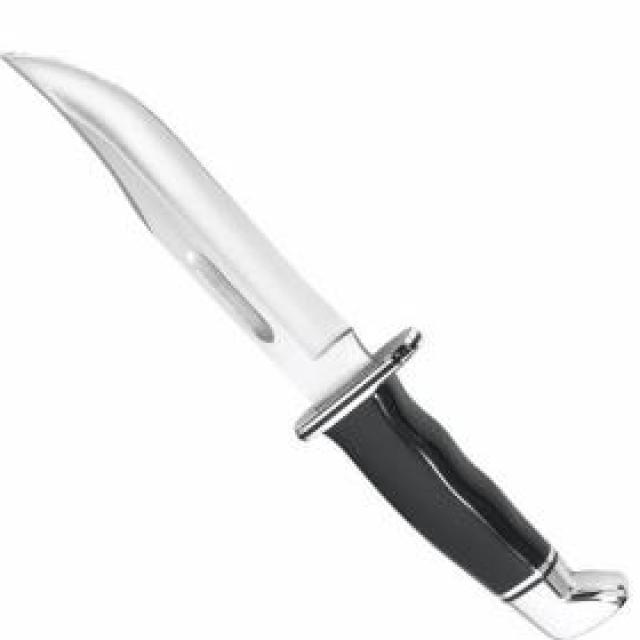knife: (2, 48, 636, 640)
